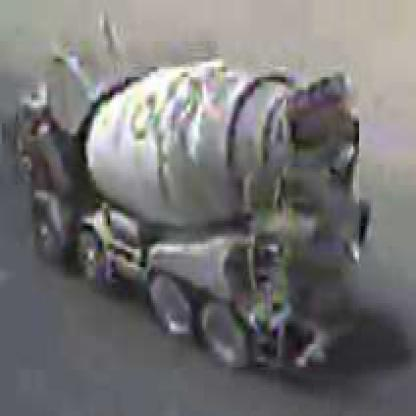truck: (21, 55, 362, 371)
